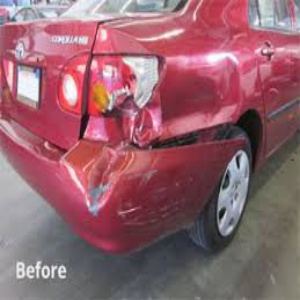bumper: (62, 83, 249, 212)
